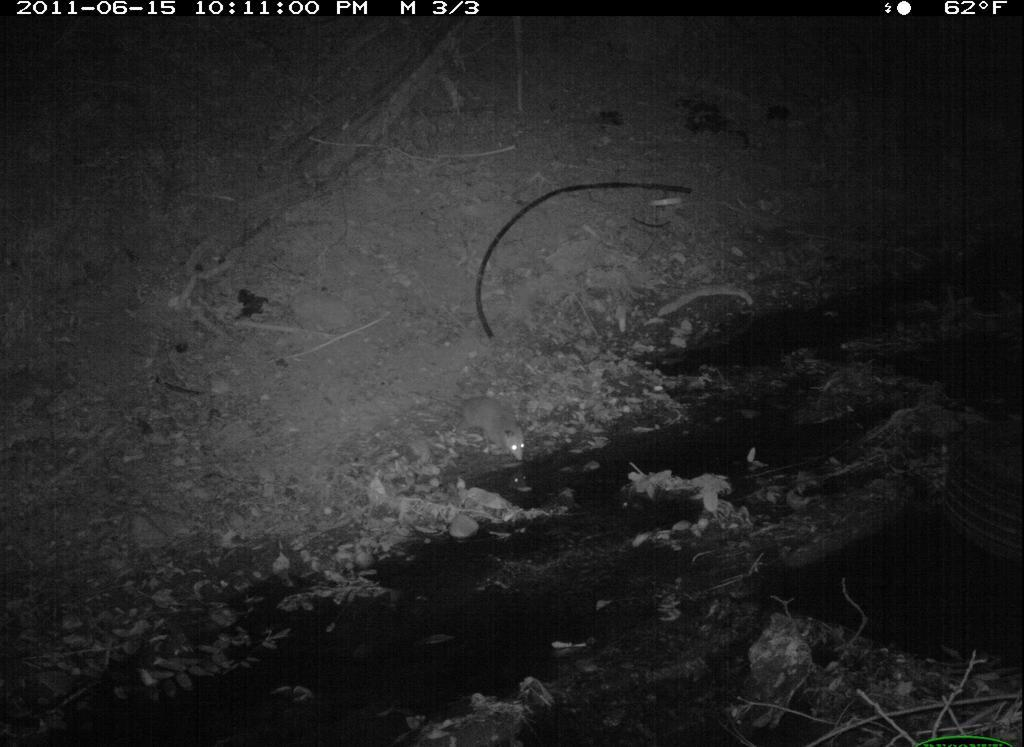opossum: (446, 376, 537, 488)
